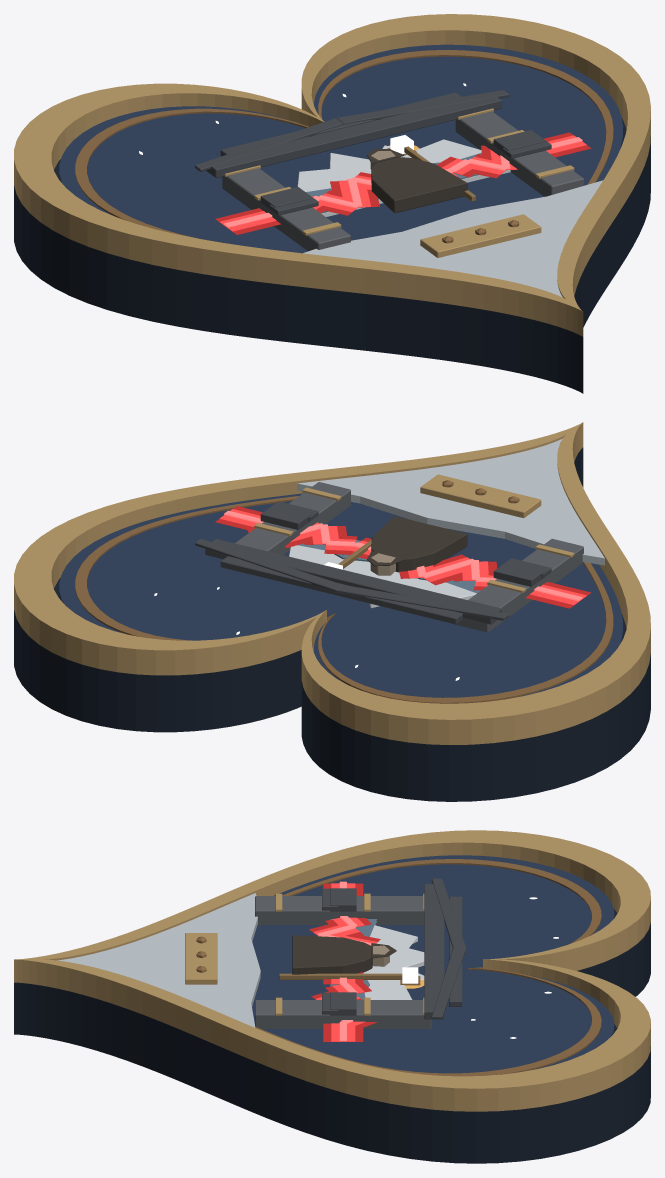
The model's file is ams_guardian.glb.
3 renders of one model, top to bottom at view 1: azimuth 30°, elevation 25°; view 2: azimuth 150°, elevation 25°; view 3: azimuth 270°, elevation 25°, orthographic. The views are drawn at different scales.
Visible parts, largest first — view 1: AG_Rim, AG_Field, AG_Body, AG_Ground, AG_Lintel, AG_FieldLine, AG_Cloak, AG_PillarL, AG_PillarR, AG_Peak, AG_Plaque, AG_PulseGlowMid (+4 smaller); view 2: AG_Field, AG_Rim, AG_Body, AG_Ground, AG_Lintel, AG_FieldLine, AG_Cloak, AG_PillarL, AG_PillarR, AG_Plaque, AG_PulseGlowMid, AG_PulseGlowWide (+4 smaller); view 3: AG_Rim, AG_Field, AG_Body, AG_Ground, AG_Lintel, AG_FieldLine, AG_PillarR, AG_PillarL, AG_Cloak, AG_Peak, AG_Plaque, AG_PulseGlowMid (+5 smaller).
Part boxes in pixels (bbox=[...]): AG_Rim: bbox=[14, 14, 650, 336]; AG_Field: bbox=[59, 44, 623, 253]; AG_Body: bbox=[14, 118, 650, 393]; AG_Ground: bbox=[303, 180, 602, 297]; AG_Lintel: bbox=[195, 90, 509, 178]; AG_FieldLine: bbox=[75, 50, 613, 238]; AG_Cloak: bbox=[371, 157, 467, 213]; AG_PillarL: bbox=[222, 168, 350, 251]; AG_PillarR: bbox=[455, 111, 583, 196]; AG_Peak: bbox=[297, 139, 510, 216]; AG_Plaque: bbox=[420, 214, 541, 257]; AG_PulseGlowMid: bbox=[220, 135, 586, 231]; AG_Field: bbox=[59, 493, 623, 697]; AG_Rim: bbox=[14, 422, 650, 744]; AG_Body: bbox=[14, 447, 650, 801]; AG_Ground: bbox=[297, 439, 604, 565]; AG_Lintel: bbox=[195, 538, 509, 624]; AG_FieldLine: bbox=[75, 496, 613, 703]; AG_Cloak: bbox=[371, 516, 467, 572]; AG_PillarL: bbox=[456, 538, 583, 632]; AG_PillarR: bbox=[222, 482, 350, 575]; AG_Plaque: bbox=[420, 474, 541, 518]; AG_PulseGlowMid: bbox=[220, 509, 586, 604]; AG_PulseGlowWide: bbox=[215, 506, 591, 608]; AG_Rim: bbox=[14, 830, 650, 1111]; AG_Field: bbox=[252, 855, 614, 1073]; AG_Body: bbox=[14, 909, 650, 1163]; AG_Ground: bbox=[57, 893, 260, 1027]; AG_Lintel: bbox=[424, 878, 466, 1019]; AG_FieldLine: bbox=[255, 859, 601, 1076]; AG_PillarR: bbox=[255, 1000, 431, 1028]; AG_PillarL: bbox=[255, 896, 424, 924]; AG_Cloak: bbox=[292, 935, 372, 974]; AG_Peak: bbox=[363, 925, 424, 999]; AG_Plaque: bbox=[185, 933, 217, 984]; AG_PulseGlowMid: bbox=[313, 883, 377, 1041].
Bounding box in the file's own units: 0.0384 × 0.00603 × 0.04.
